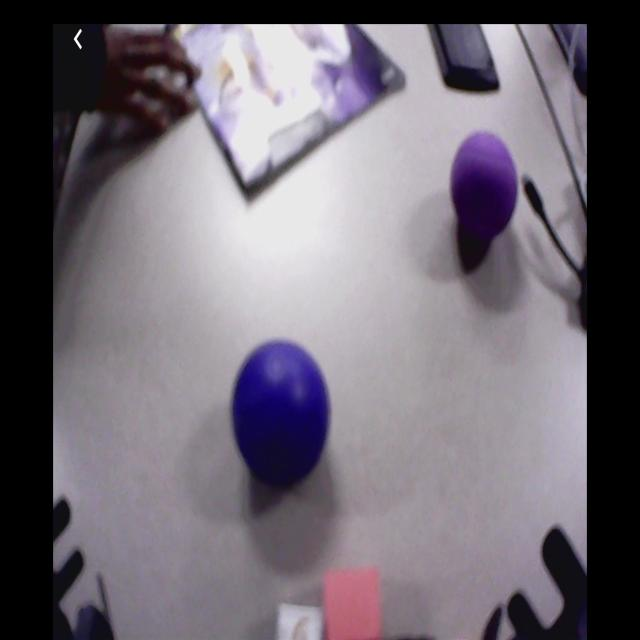ball: (234, 341, 331, 481), (450, 134, 521, 235)
